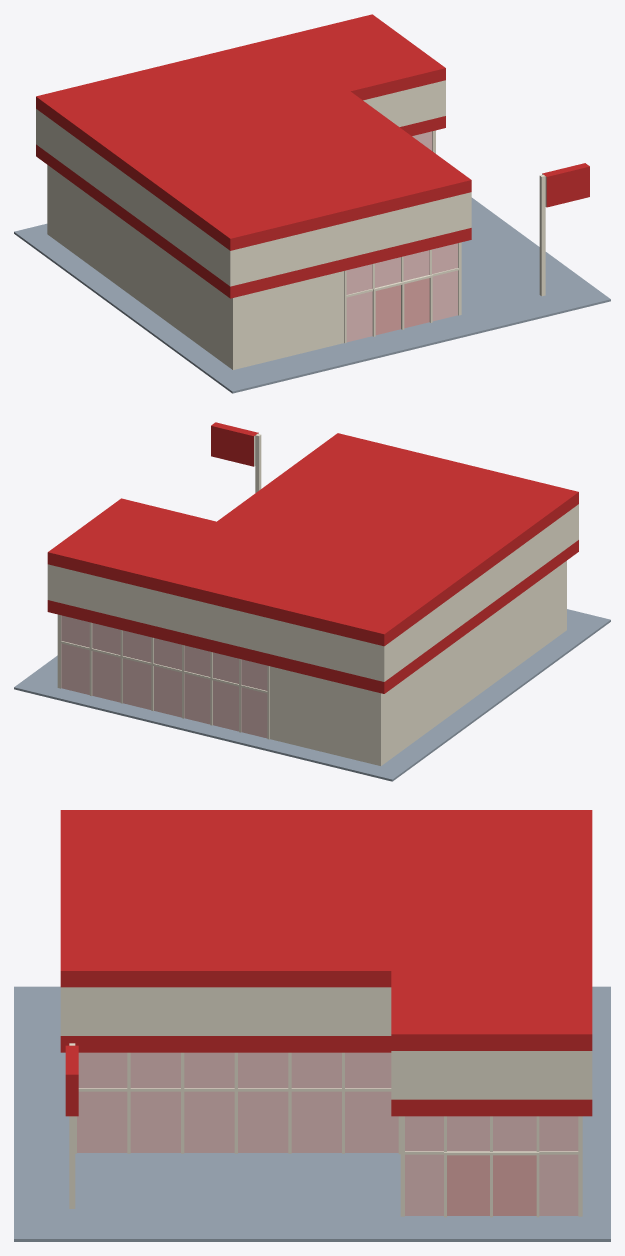
The model's file is supermarket.glb.
3 views of the same model, one above another, from view 1: azimuth 30°, elevation 25°; view 2: azimuth 150°, elevation 25°; view 3: azimuth 270°, elevation 25° (orthographic). The views are drawn at different scales.
Parts seen in each view (by area): view 1: supermarket; view 2: supermarket; view 3: supermarket.
Boxes of the visible parts, x1,y1,x2,y2 form: supermarket: (14, 14, 610, 393); supermarket: (14, 422, 610, 781); supermarket: (14, 810, 610, 1241).
Bounding box in the file's own units: 20 × 7 × 20.
